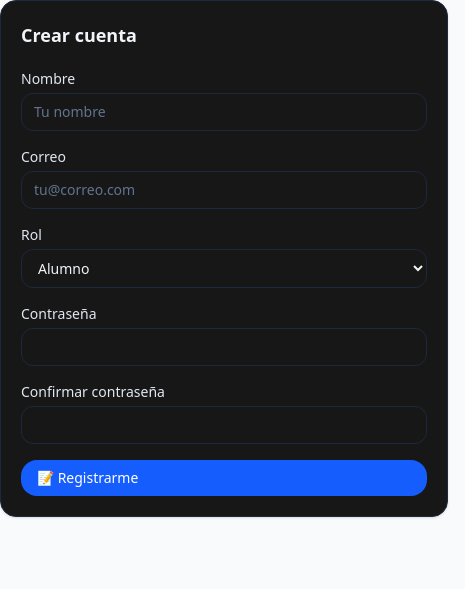
Test: 🧾 Register Form (actual) › ✅ realiza registro exitoso con datos válidos
Step 1. Type "Nuevo Usuario" into the field labelled "Nombre" → (224, 112), box 21,93 -> 427,131
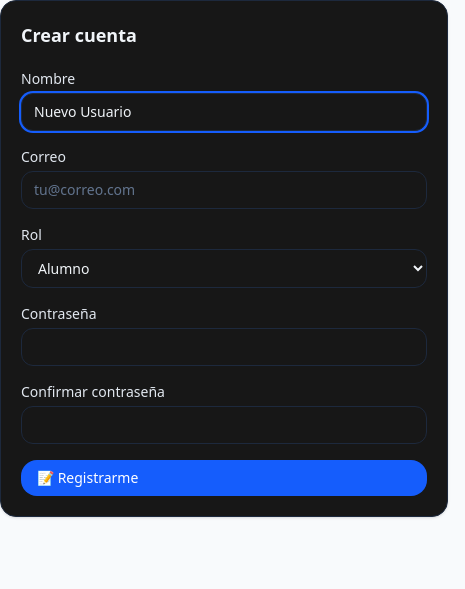
Step 2. Type "nuevo@example.com" into the field labelled "Correo" → (224, 190), box 21,171 -> 427,209
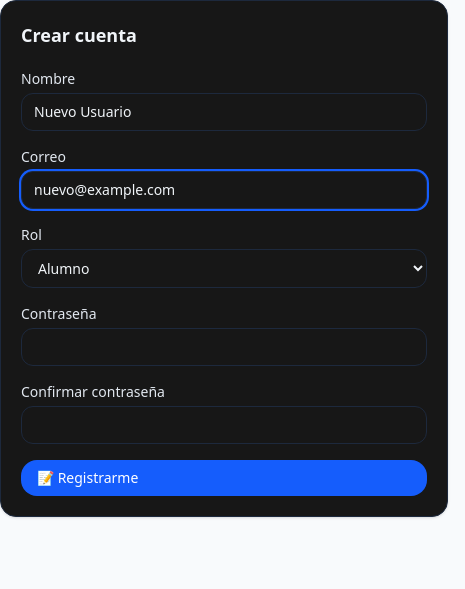
Step 3. Type "123456" into the password field labelled "Contraseña" → (224, 347), box 21,328 -> 427,366
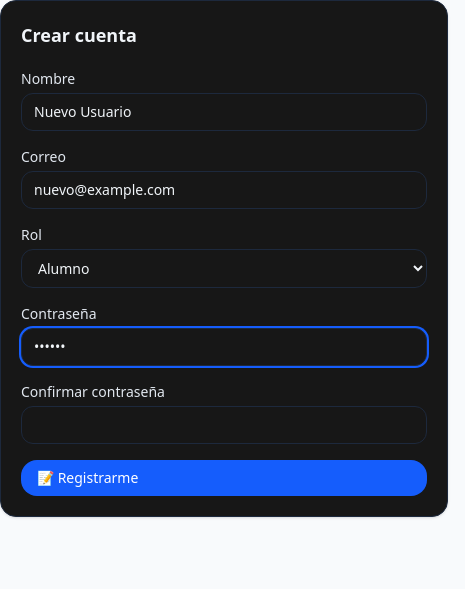
Step 4. Type "123456" into the password field labelled "Confirmar contraseña" → (224, 425), box 21,406 -> 427,444
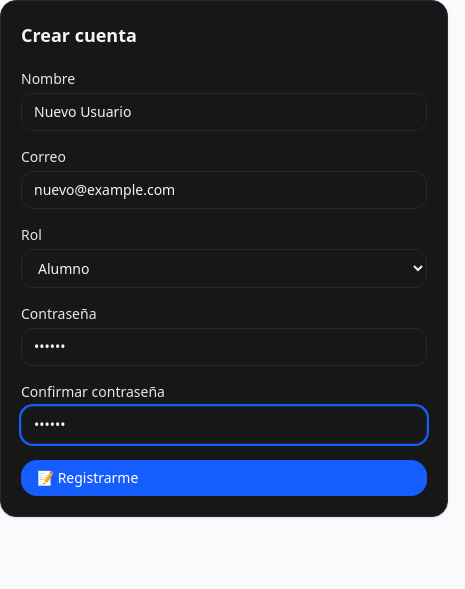
Step 5. Click the button "📝 Registrarme" → (88, 478), box 21,460 -> 427,496
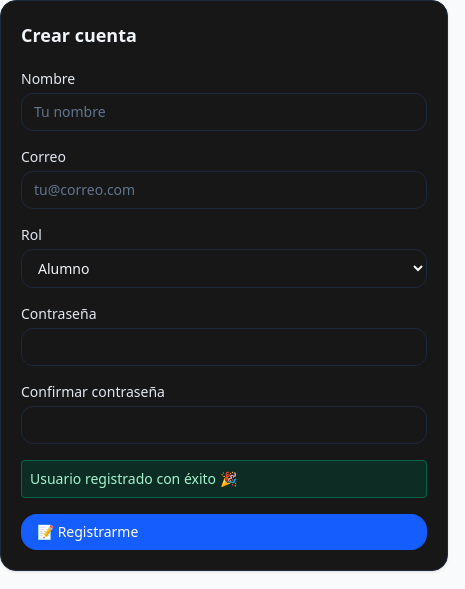
Check: the text "Usuario registrado con éxito 🎉" is shown, box 21,460 -> 427,498
